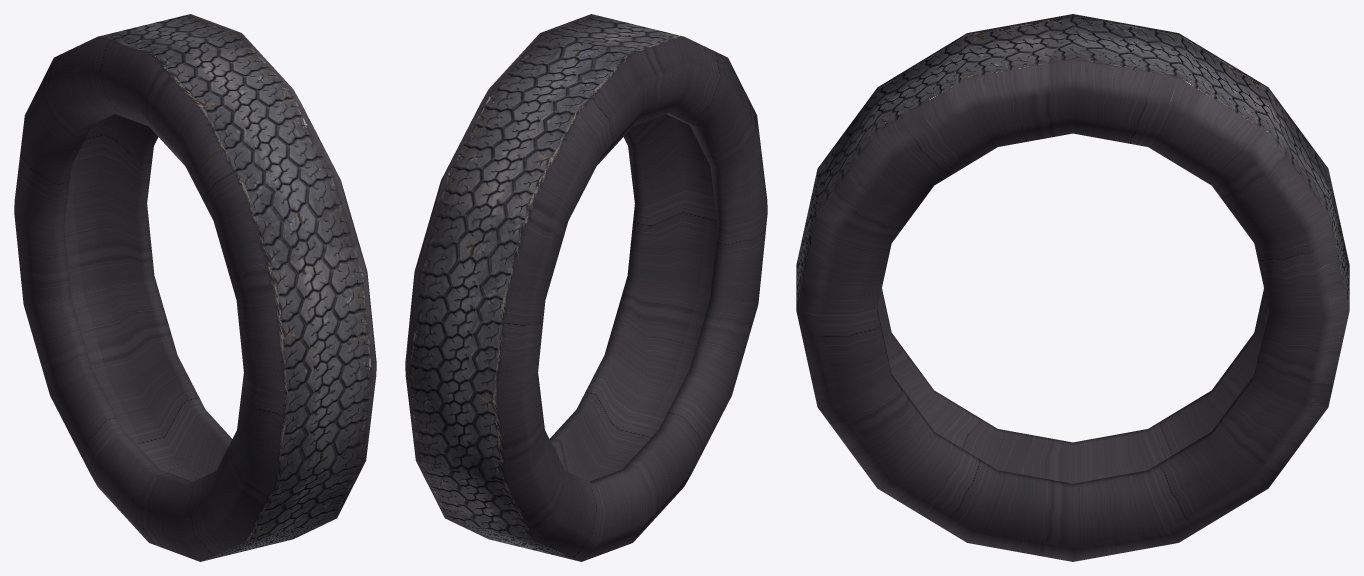
Rendered from wheel.fbx.
3 views of the same model, side by side, from view 1: azimuth 30°, elevation 25°; view 2: azimuth 150°, elevation 25°; view 3: azimuth 270°, elevation 25° (orthographic). The views are drawn at different scales.
Visible parts, largest first — view 1: Circle; view 2: Circle; view 3: Circle.
Part boxes in pixels (x1,y1,x2,y2): Circle: (14,14,376,561); Circle: (405,14,767,561); Circle: (796,14,1349,561).
Size of the model in its own units: 50.87 by 200 by 200.
